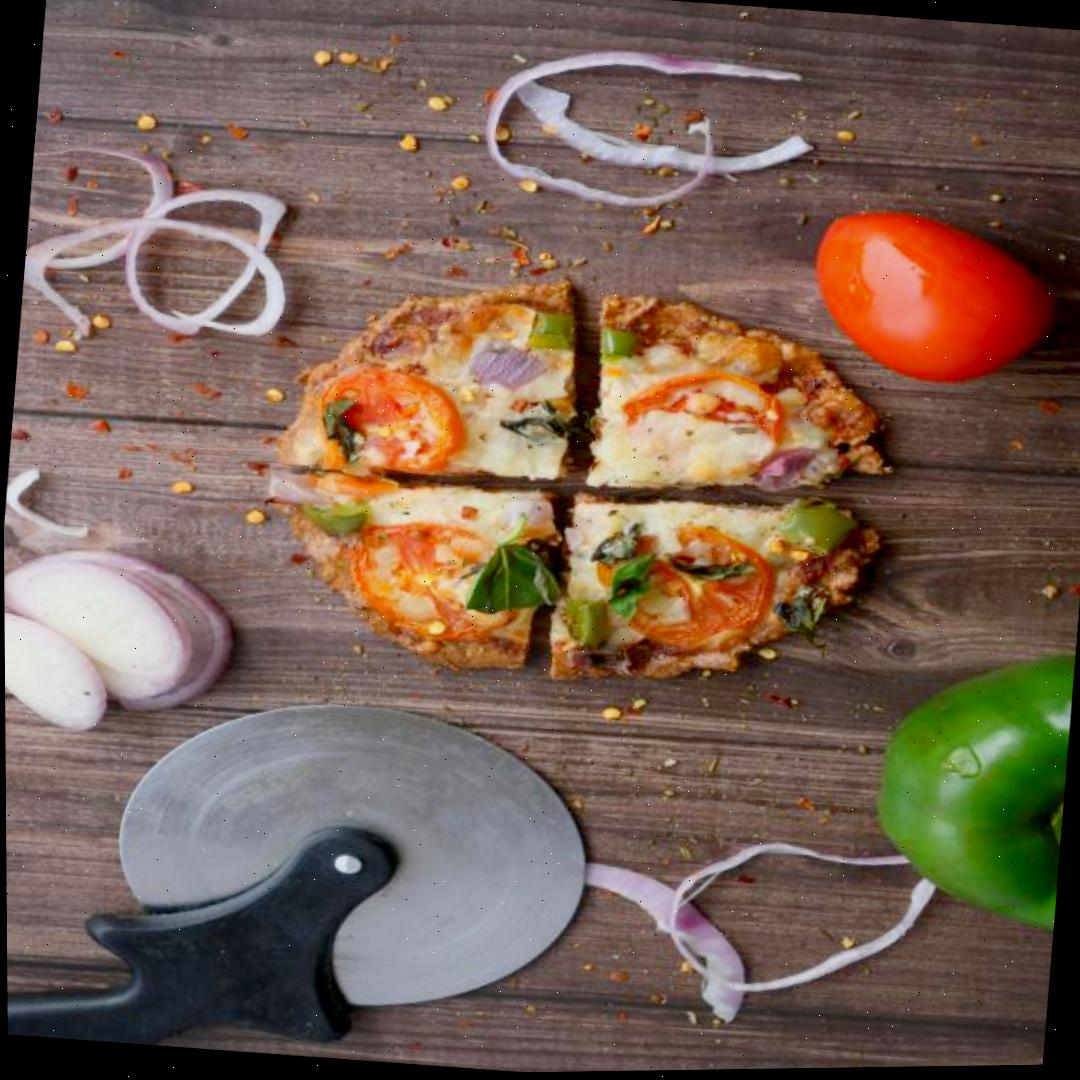matang: (804, 200, 1061, 390)
